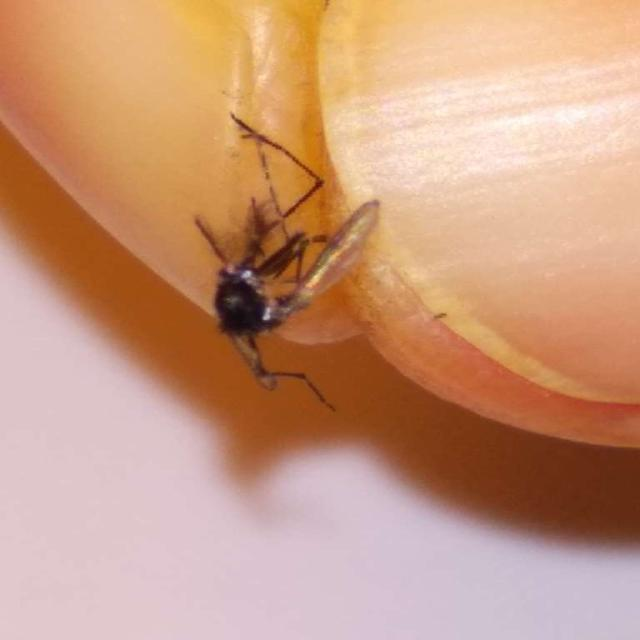albopictus: (166, 94, 372, 411)
